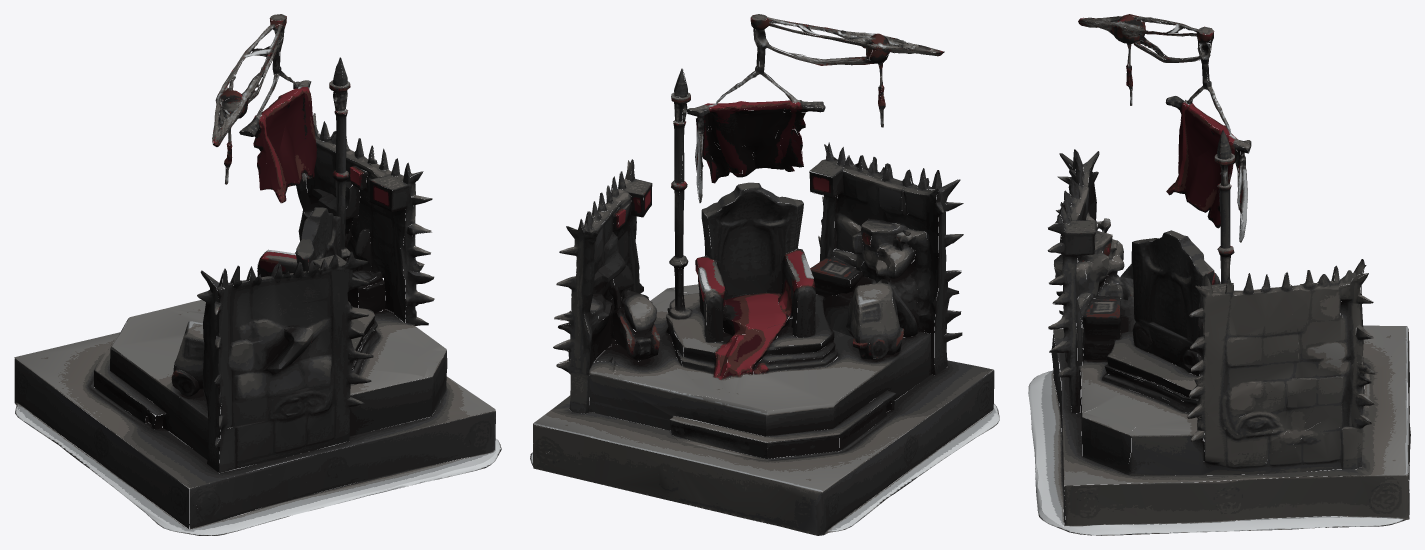
File: warlord.glb
The picture shows the model from 3 angles, left to right: view 1: azimuth 30°, elevation 25°; view 2: azimuth 150°, elevation 25°; view 3: azimuth 270°, elevation 25°; orthographic projection. The views are drawn at different scales.
Parts seen in each view (by area): view 1: warlord; view 2: warlord; view 3: warlord.
Part boxes in pixels (x1,y1,x2,y2): warlord: (14, 14, 501, 535); warlord: (530, 14, 999, 535); warlord: (1028, 14, 1410, 535).
Size of the model in its own units: 2.6 by 3.06 by 2.49.
Materials: 1 (1 with a texture image).
